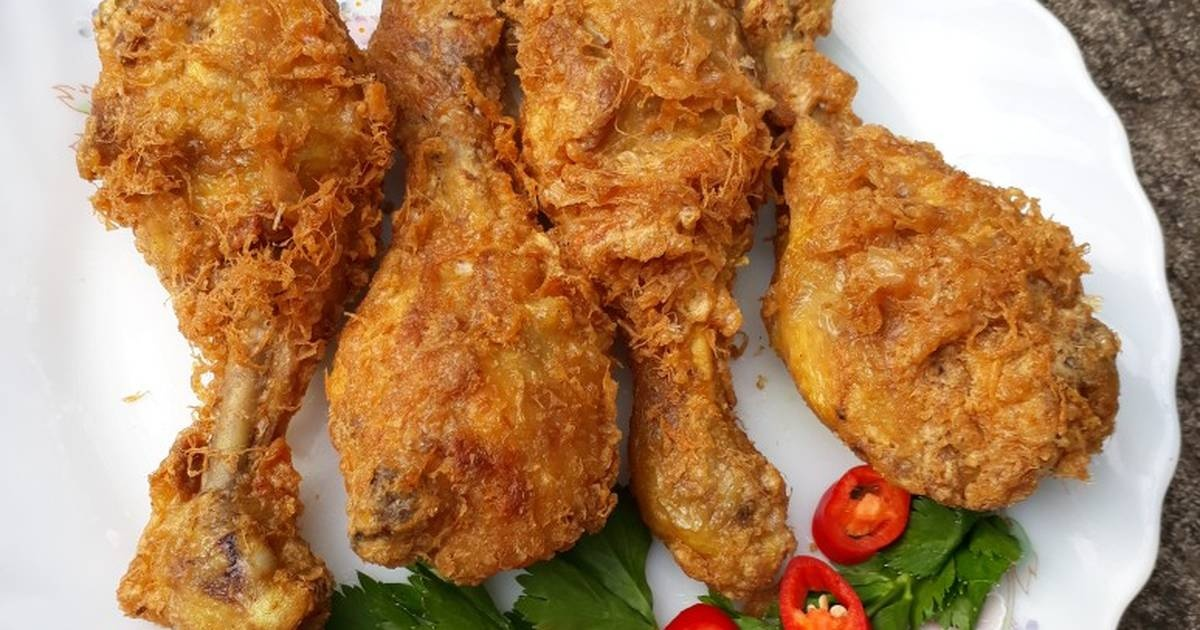ayam_goreng: (72, 0, 394, 630), (498, 0, 794, 615), (318, 0, 546, 575)
